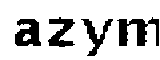a: (13, 14, 40, 51)
m: (117, 15, 160, 51)
y: (78, 15, 116, 58)
z: (40, 11, 78, 50)
